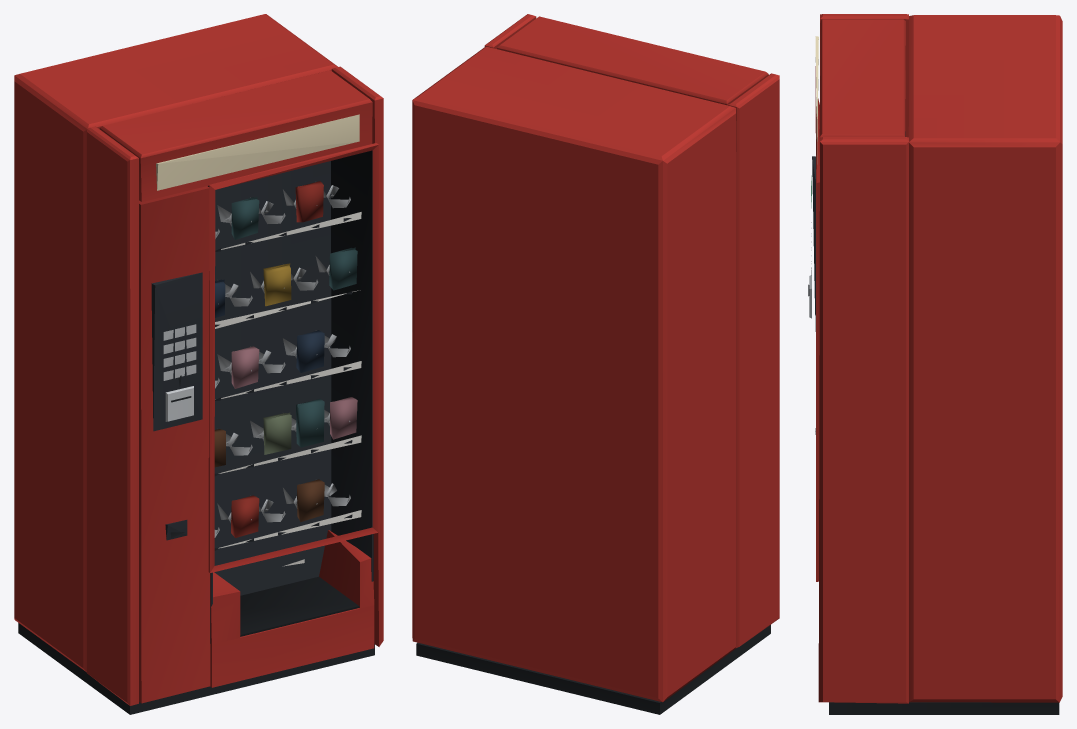
Rendered from vendingSnack.far.glb.
3 renders of one model, left to right at view 1: azimuth 30°, elevation 25°; view 2: azimuth 150°, elevation 25°; view 3: azimuth 270°, elevation 25°, orthographic. The views are drawn at different scales.
Parts seen in each view (by area): view 1: vendingSnack_far; view 2: vendingSnack_far; view 3: vendingSnack_far.
Boxes of the visible parts, <box> form: vendingSnack_far: <box>14,14,383,714</box>; vendingSnack_far: <box>412,14,779,714</box>; vendingSnack_far: <box>808,14,1062,714</box>.
Bounding box in the file's own units: 0.9 × 1.88 × 0.751.
